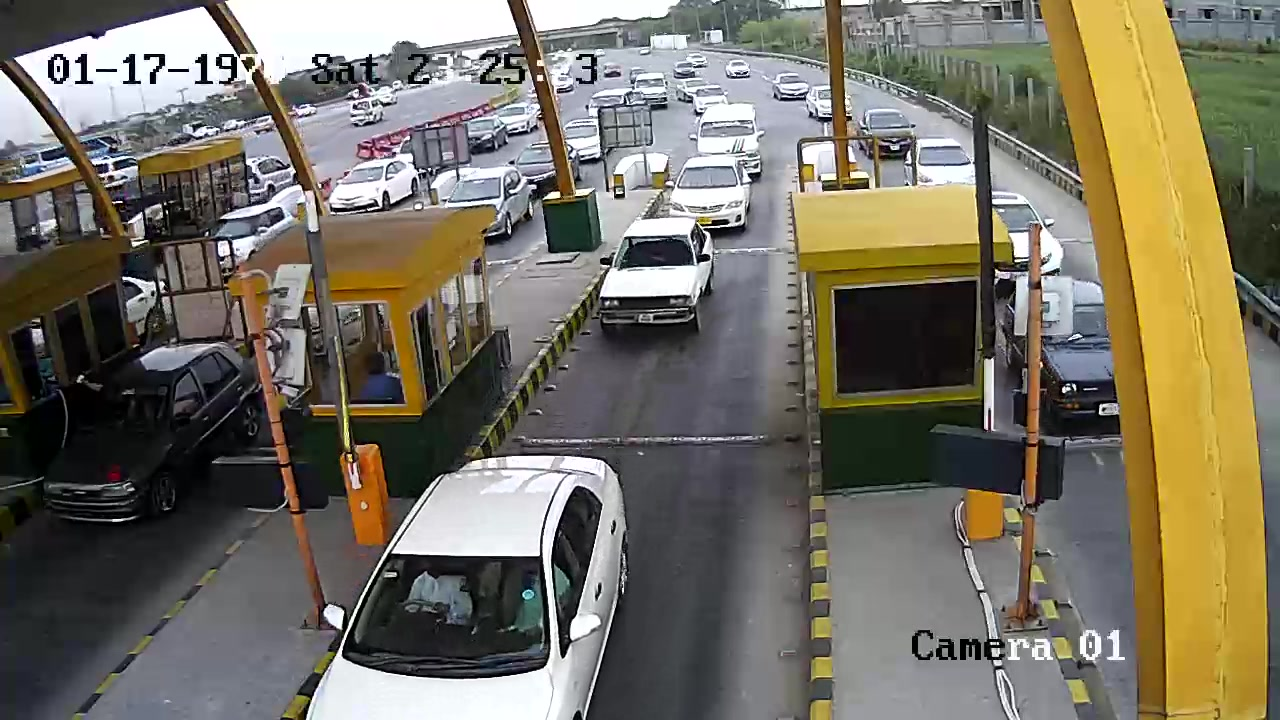F1: (590, 212, 727, 351)
